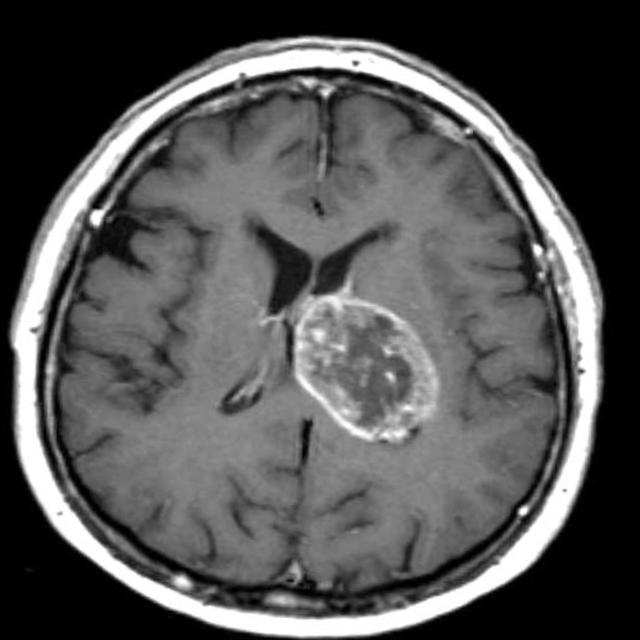Tumor: (297, 293, 441, 436)
